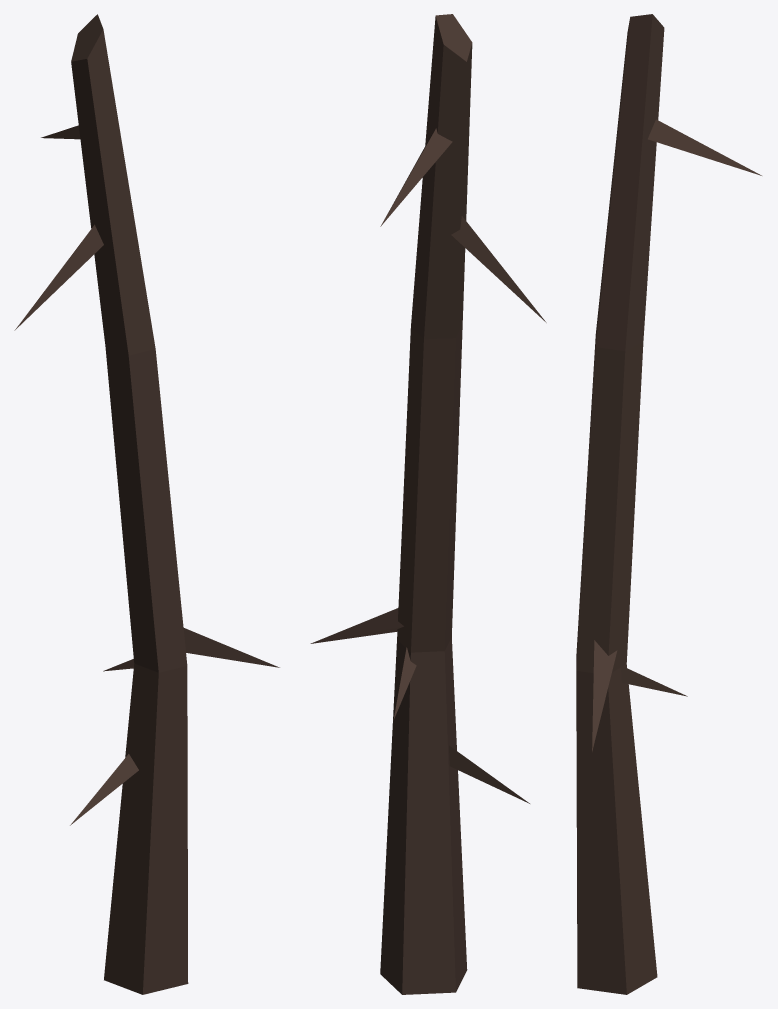
The model's file is LPHorror_HorrorPineBare.fbx.
3 views of the same model, side by side, from view 1: azimuth 30°, elevation 25°; view 2: azimuth 150°, elevation 25°; view 3: azimuth 270°, elevation 25° (orthographic). The views are drawn at different scales.
Parts seen in each view (by area): view 1: HorrorPineBare; view 2: HorrorPineBare; view 3: HorrorPineBare.
Boxes of the visible parts, left/top/right/bottom form: HorrorPineBare: left=14, top=14, right=279, bottom=994; HorrorPineBare: left=310, top=14, right=546, bottom=994; HorrorPineBare: left=576, top=14, right=761, bottom=994.
Size of the model in its own units: 184 by 673 by 121.
